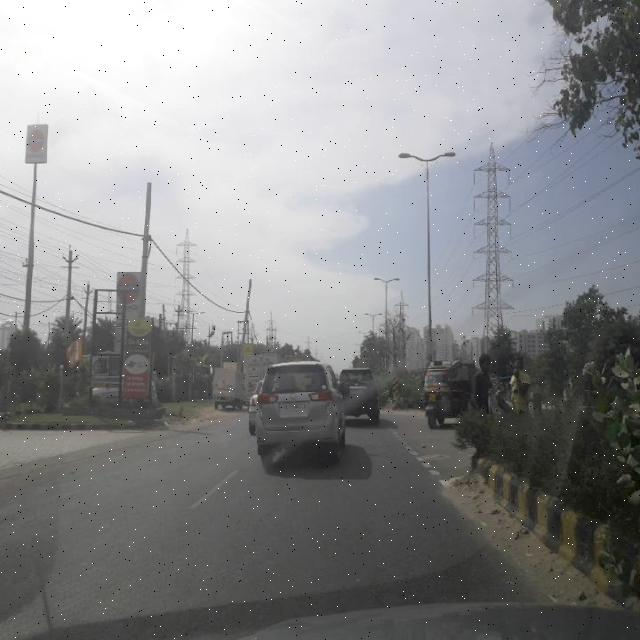D20: (0, 466, 532, 596)
